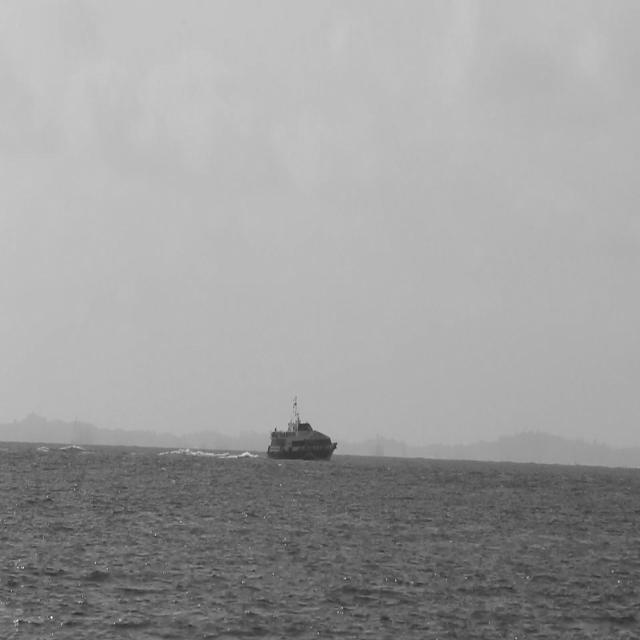ship: (266, 395, 338, 463)
